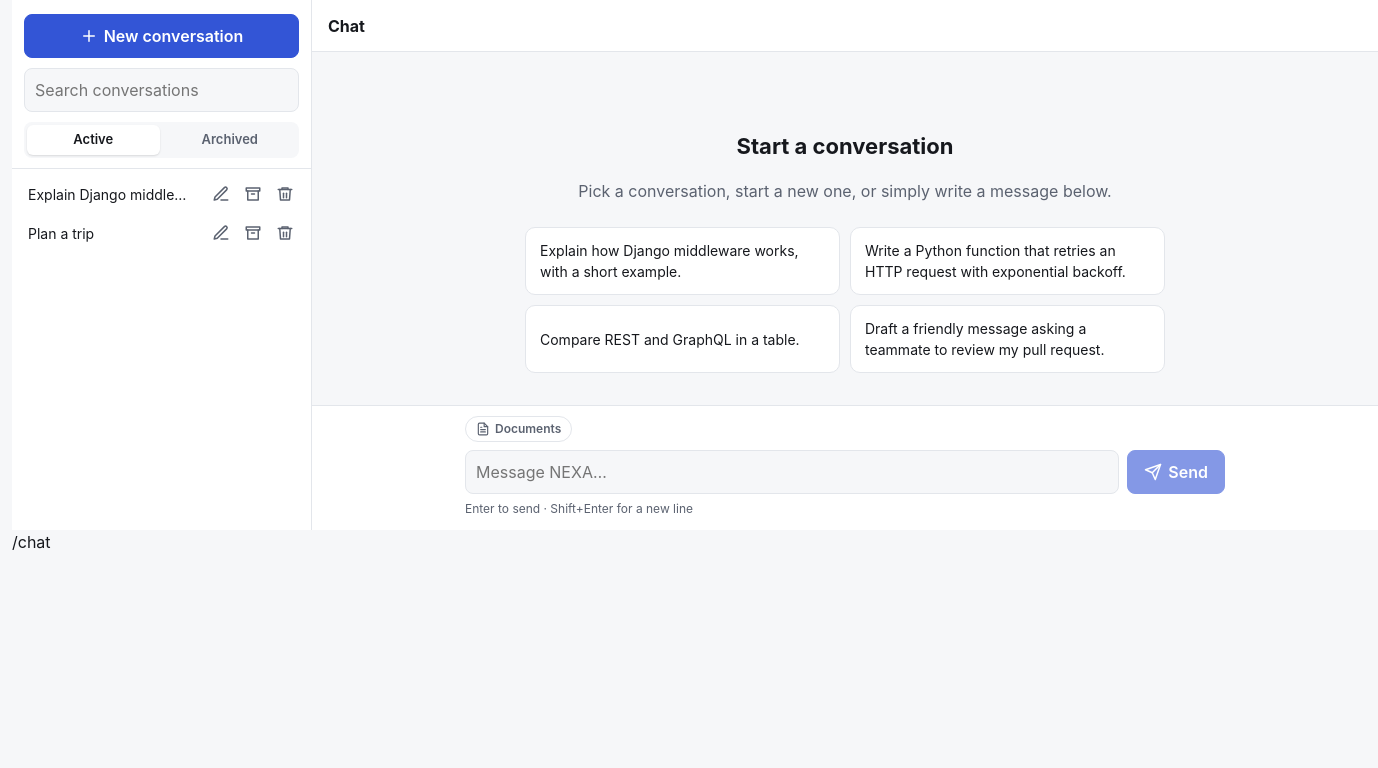
Test: ChatPage › creates a conversation and opens it
This screenshot has width=1378, height=768.
Check: the link "Explain Django middleware" is shown, box [28, 186, 207, 202]
Click the button "New conversation" at (162, 36), box [24, 14, 299, 58]
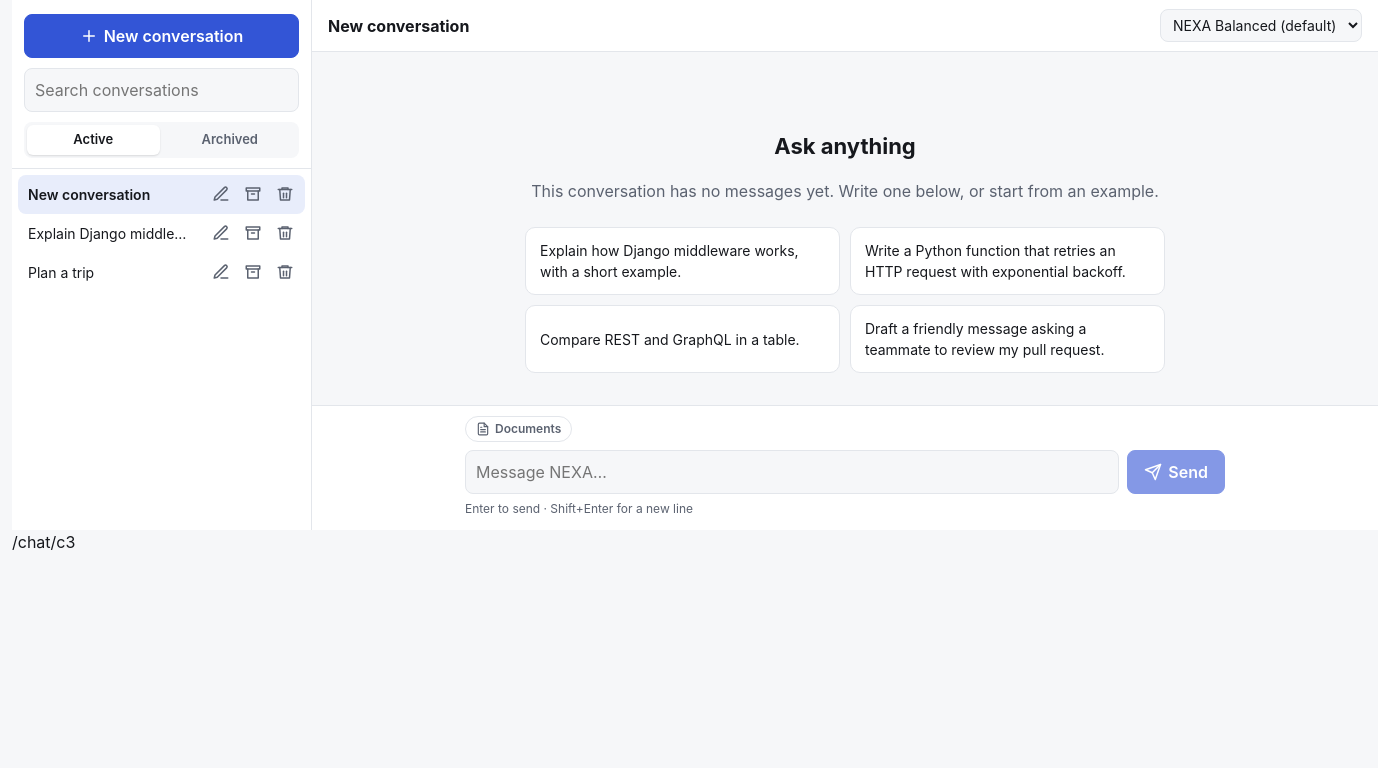
Check: the text with test id "location" reads "/chat/c3", box [12, 532, 75, 552]
Check: the heading "Ask anything" is shown, box [774, 133, 916, 159]
Check: the link "New conversation" is shown, box [28, 186, 150, 202]
